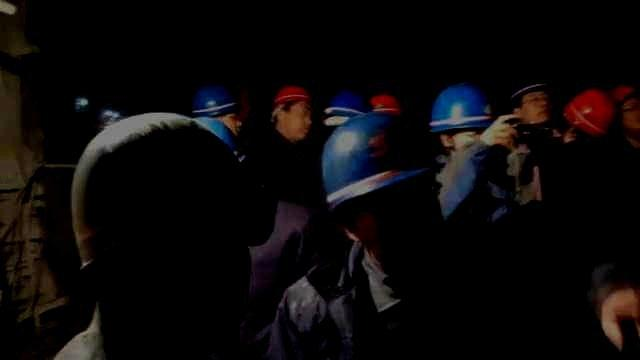helmet: (70, 113, 276, 341), (321, 110, 446, 271), (428, 84, 494, 152), (190, 87, 242, 139), (563, 88, 616, 138), (269, 85, 312, 139), (509, 73, 549, 124), (189, 116, 239, 156), (323, 92, 368, 127), (617, 85, 640, 130), (370, 94, 400, 112)
